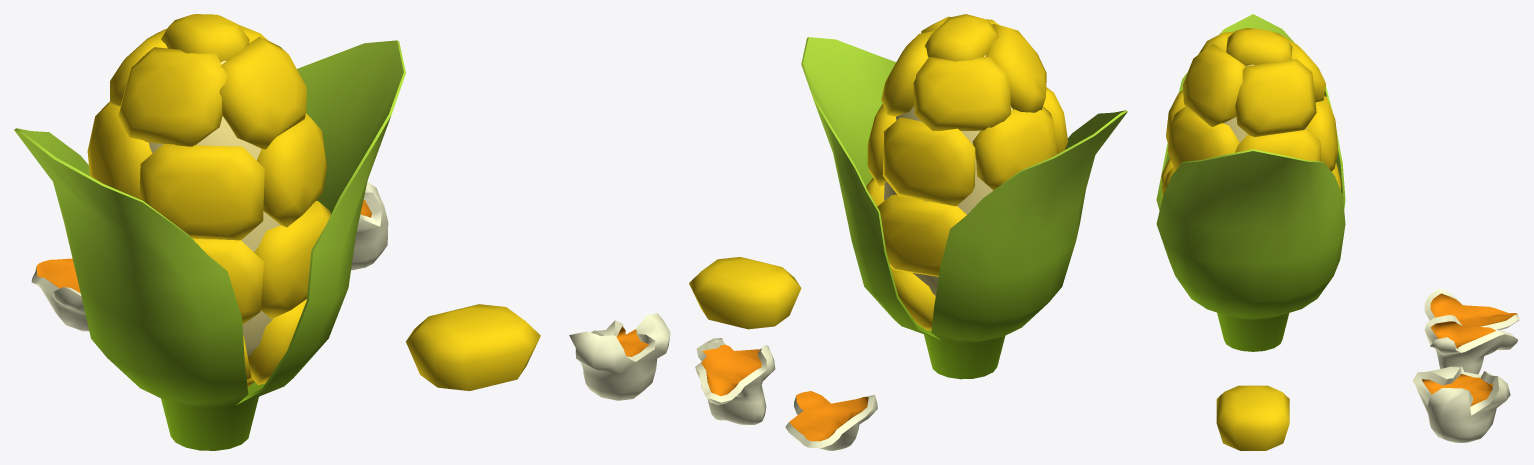
File: corn.fbx
3 views of the same model, side by side, from view 1: azimuth 30°, elevation 25°; view 2: azimuth 150°, elevation 25°; view 3: azimuth 270°, elevation 25° (orthographic). The views are drawn at different scales.
Parts seen in each view (by area): view 1: corn_Leaves, corn_Pieces, corn_Piece, popcorn_1, corn_Cob, popcorn_3; view 2: corn_Leaves, corn_Pieces, corn_Piece, popcorn_3, popcorn_2, popcorn_1, corn_Cob; view 3: corn_Leaves, corn_Pieces, popcorn_3, corn_Piece, popcorn_2, popcorn_1.
Part boxes in pixels (box(x1,y1,x2,y2)): corn_Leaves: box(14, 40, 405, 450); corn_Pieces: box(87, 14, 330, 387); corn_Piece: box(406, 304, 540, 390); popcorn_1: box(31, 258, 89, 331); corn_Cob: box(148, 60, 280, 356); popcorn_3: box(351, 182, 388, 270); corn_Leaves: box(801, 37, 1127, 379); corn_Pieces: box(866, 14, 1068, 330); corn_Piece: box(689, 257, 801, 329); popcorn_3: box(569, 313, 670, 400); popcorn_2: box(695, 338, 775, 424); popcorn_1: box(785, 391, 877, 450); corn_Cob: box(884, 55, 1012, 295); corn_Leaves: box(1156, 14, 1345, 351); corn_Pieces: box(1161, 28, 1340, 197); popcorn_3: box(1413, 366, 1510, 442); corn_Piece: box(1216, 385, 1289, 450); popcorn_2: box(1425, 315, 1517, 374); popcorn_1: box(1424, 289, 1519, 330).
Size of the model in its own units: 2.06 by 1.73 by 1.62.
